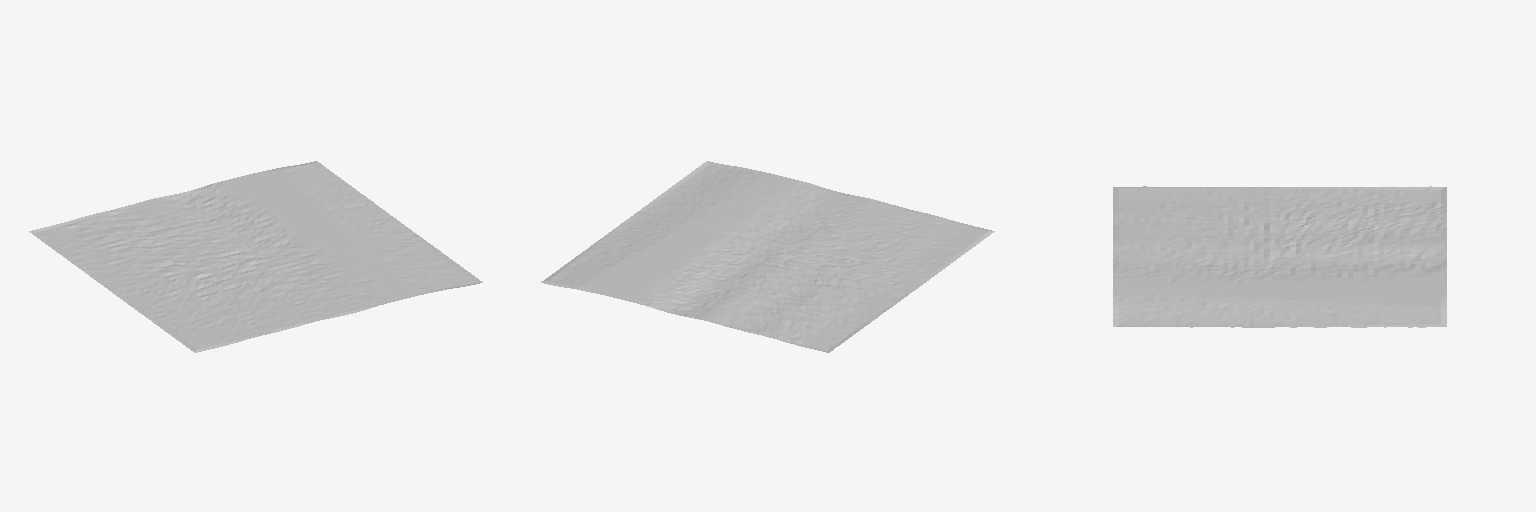
Rendered from gold high.obj.
3 views of the same model, side by side, from view 1: azimuth 30°, elevation 25°; view 2: azimuth 150°, elevation 25°; view 3: azimuth 270°, elevation 25° (orthographic).
Parts seen in each view (by area): view 1: gold_height_Plane.009; view 2: gold_height_Plane.009; view 3: gold_height_Plane.009.
Part boxes in pixels (x1,y1,x2,y2): gold_height_Plane.009: (29, 161, 482, 352); gold_height_Plane.009: (541, 161, 994, 352); gold_height_Plane.009: (1113, 186, 1446, 327).
Bounding box in the file's own units: 2 × 0.025 × 2.